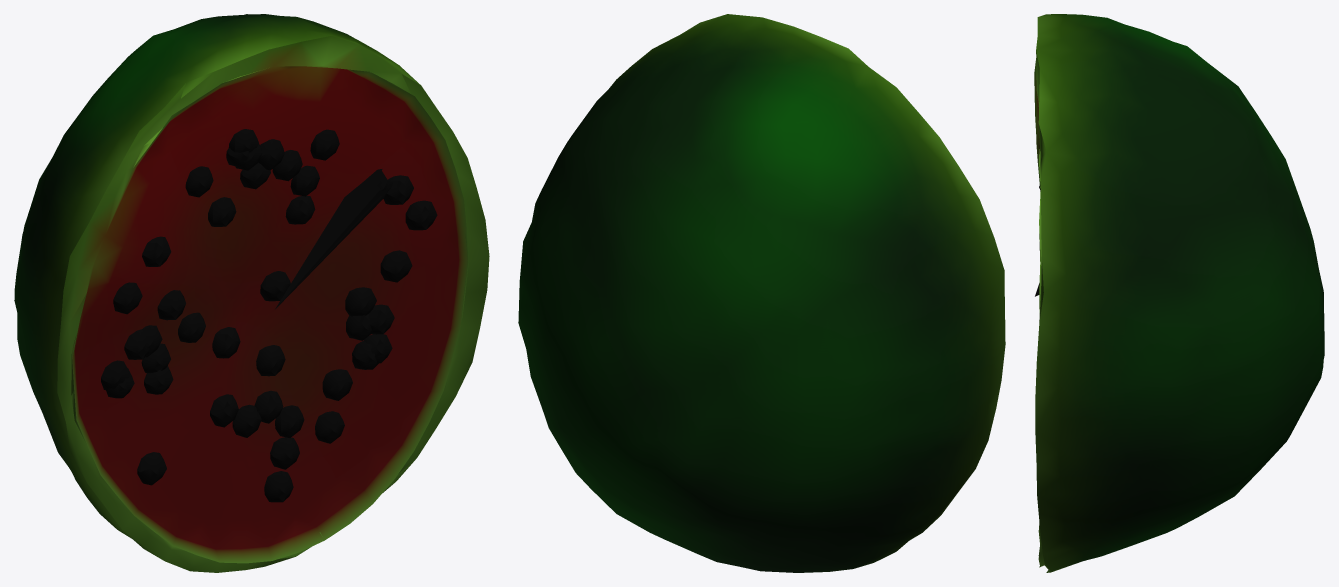
File: Watermelon.fbx
The picture shows the model from 3 angles, left to right: view 1: azimuth 30°, elevation 25°; view 2: azimuth 150°, elevation 25°; view 3: azimuth 270°, elevation 25°; orthographic projection.
Parts seen in each view (by area): view 1: watermelon; view 2: watermelon; view 3: watermelon.
Part boxes in pixels (<box>): watermelon: <box>14,14,489,572</box>; watermelon: <box>518,14,1005,572</box>; watermelon: <box>1034,14,1324,572</box>.
Size of the model in its own units: 1.17 by 1.36 by 0.6852.
